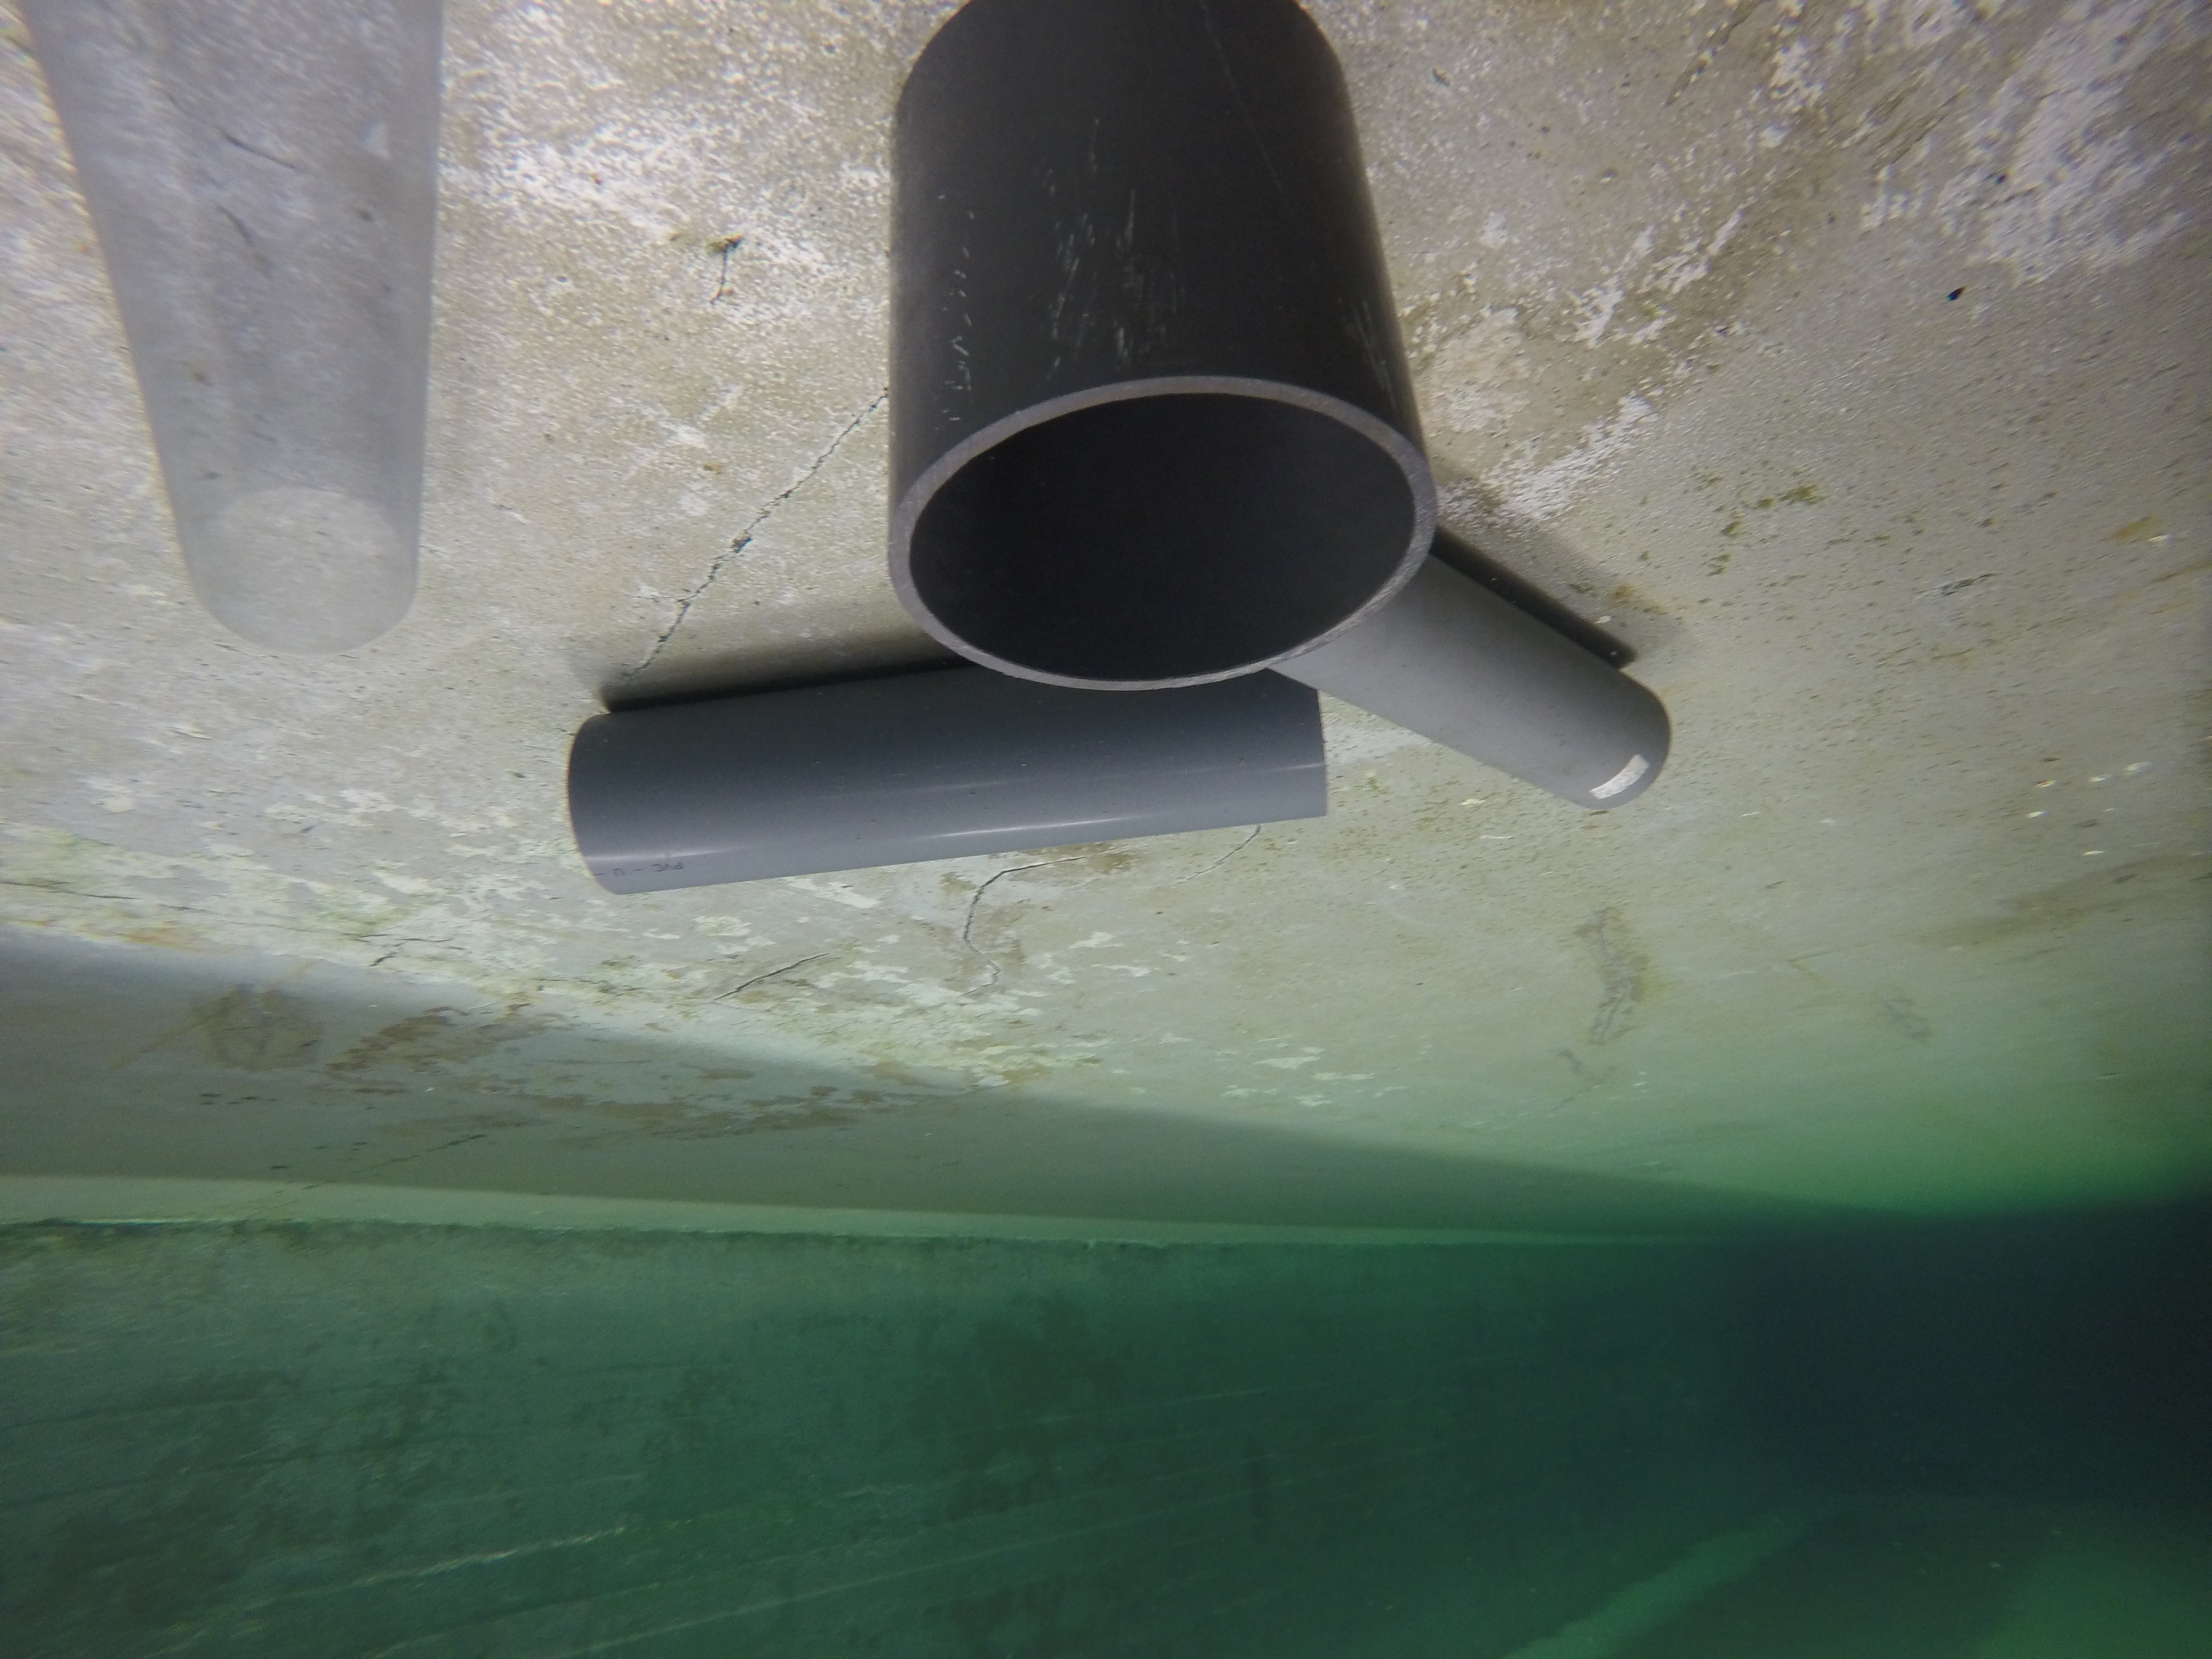pipe: (890, 3, 1440, 694), (12, 0, 442, 659), (566, 671, 1327, 897), (1270, 558, 1672, 814)
